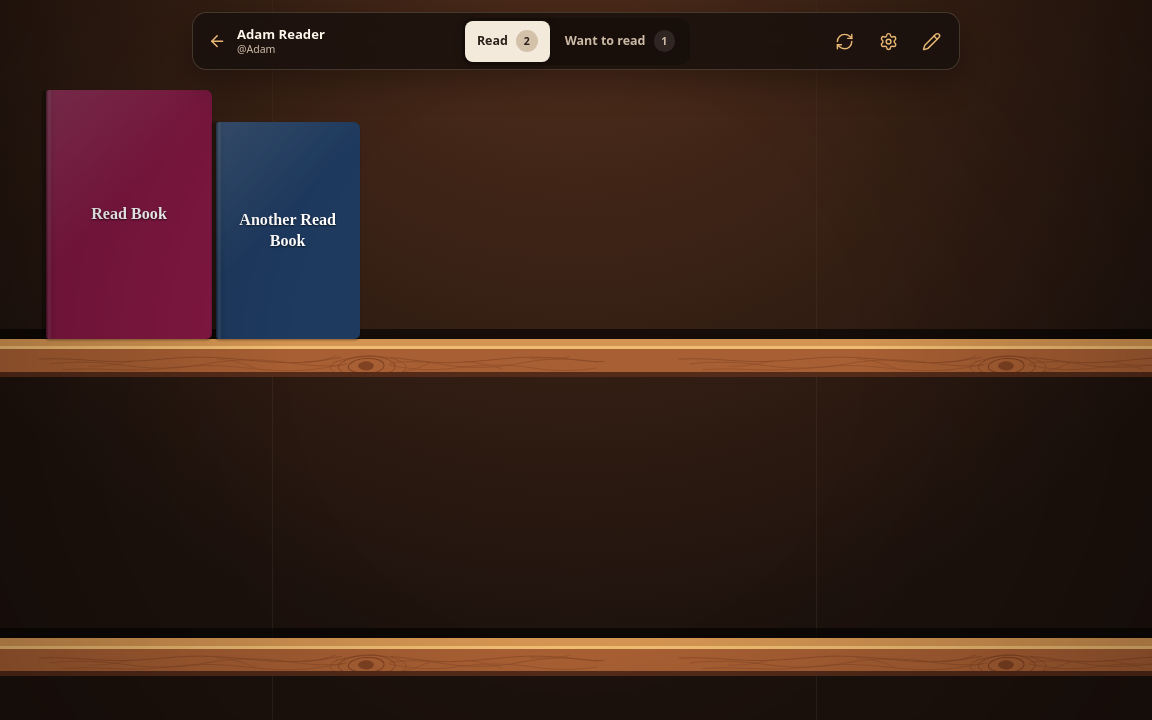
Test: ShelfView › switches between one visible card shelf at a time with pointer input
Click the tab with aria-label "Want to Read (1)".
click(620, 41)  # box [553,21,687,62]
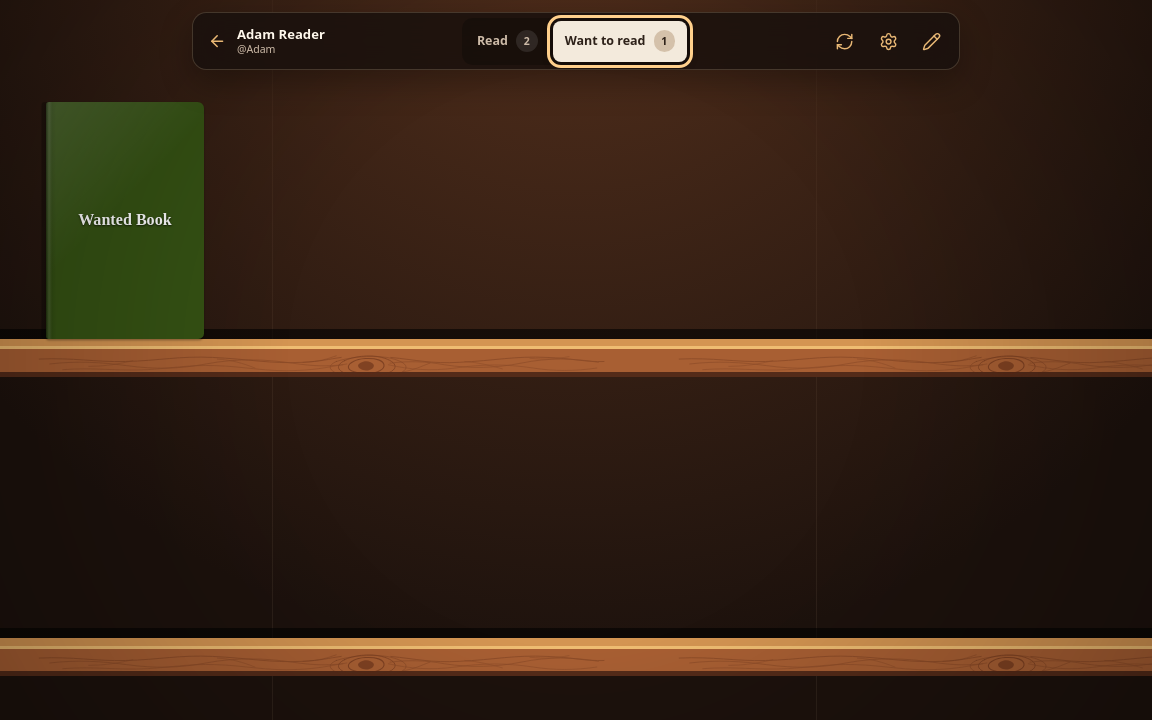
Now the list item with aria-label "Wanted Book by Wanted Author" is shown, box [46,77,204,376]
Now the button with aria-label "Open details for Wanted Book by Wanted Author" is shown, box [46,102,204,339]
Now the list named "Want to Read bookshelf" is shown
